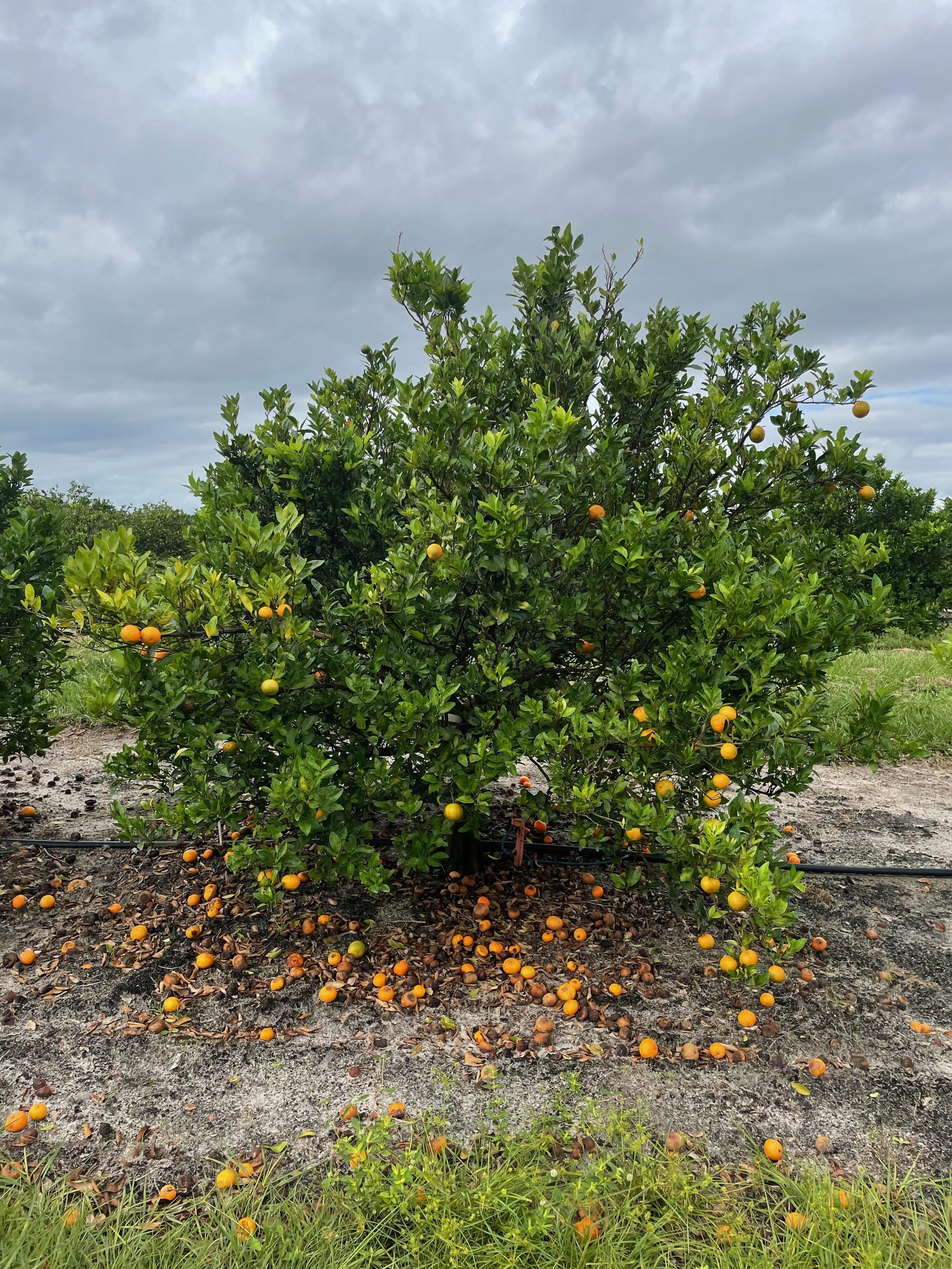fruit_on_ground: (636, 725, 662, 749), (441, 800, 466, 823), (573, 635, 598, 658), (138, 624, 163, 647), (653, 778, 677, 801), (726, 889, 750, 912), (680, 735, 705, 757), (119, 623, 142, 646), (701, 816, 726, 837), (630, 704, 653, 726), (686, 580, 709, 602), (850, 398, 873, 420), (259, 676, 282, 698), (700, 787, 723, 809), (150, 646, 174, 667), (699, 874, 723, 895), (765, 963, 787, 985), (586, 501, 608, 523), (815, 476, 838, 497), (256, 868, 279, 889), (738, 947, 760, 968), (623, 822, 645, 843), (709, 713, 730, 734), (716, 703, 738, 723), (856, 484, 878, 504), (280, 872, 301, 892), (696, 931, 717, 951), (718, 741, 739, 761), (719, 953, 739, 973), (425, 541, 445, 561), (747, 425, 767, 444), (138, 644, 158, 663), (676, 507, 695, 526), (275, 601, 294, 620), (711, 771, 731, 789), (256, 604, 275, 622), (221, 739, 240, 757), (781, 396, 799, 414), (312, 668, 330, 685), (532, 819, 549, 834), (359, 342, 372, 356)
fruit_on_tree: (571, 1217, 602, 1245), (2, 1109, 30, 1133), (233, 1215, 257, 1242), (213, 1166, 237, 1190), (783, 1209, 807, 1232), (665, 1130, 688, 1153), (830, 1188, 854, 1210), (555, 981, 578, 1003), (637, 1037, 660, 1059), (61, 1207, 83, 1229), (2, 1159, 25, 1180), (763, 1138, 784, 1161), (679, 1041, 701, 1062), (805, 1056, 827, 1077), (345, 939, 367, 959), (736, 1008, 758, 1028), (714, 1222, 734, 1243), (707, 1039, 728, 1059), (27, 1102, 48, 1122), (813, 1134, 834, 1153), (157, 1183, 178, 1202), (317, 984, 338, 1003), (429, 1134, 448, 1154), (236, 1161, 255, 1180), (162, 994, 181, 1013), (135, 890, 155, 908), (479, 1062, 499, 1080), (285, 951, 305, 969), (387, 1099, 407, 1117), (534, 1014, 554, 1032), (17, 948, 37, 966), (195, 952, 215, 970), (502, 956, 522, 974), (338, 1102, 357, 1120), (377, 983, 396, 1001), (161, 970, 181, 987), (471, 1027, 489, 1045), (561, 998, 579, 1016), (392, 958, 410, 976), (10, 893, 28, 911), (230, 954, 249, 971), (130, 923, 149, 940), (810, 935, 829, 952), (461, 968, 479, 985), (728, 1047, 746, 1064), (371, 971, 389, 988), (325, 948, 342, 966), (258, 1024, 275, 1042), (300, 916, 317, 934), (38, 892, 56, 909), (472, 902, 490, 919), (544, 914, 564, 929), (588, 822, 605, 839), (759, 990, 776, 1007), (148, 1017, 166, 1033), (287, 963, 305, 979), (183, 924, 201, 940), (268, 975, 286, 991), (334, 960, 353, 975), (534, 1031, 553, 1046), (477, 1039, 495, 1054), (206, 896, 224, 911), (529, 983, 548, 997), (538, 993, 557, 1007), (572, 925, 588, 941), (186, 892, 202, 908), (759, 934, 776, 949), (699, 964, 716, 979), (400, 992, 417, 1007), (181, 847, 198, 862), (19, 804, 37, 818), (371, 854, 387, 869), (296, 869, 311, 885), (61, 938, 77, 953), (615, 1015, 631, 1030), (412, 983, 427, 999), (523, 882, 539, 897), (799, 967, 815, 982), (607, 981, 623, 996), (579, 869, 595, 884), (521, 963, 537, 978), (340, 950, 356, 965), (460, 873, 477, 887), (475, 893, 492, 907), (458, 961, 475, 975), (513, 1037, 528, 1052), (489, 938, 504, 953), (199, 935, 215, 949), (347, 918, 363, 932), (590, 884, 606, 898), (203, 888, 219, 902), (566, 977, 582, 991), (203, 881, 220, 894), (558, 928, 573, 942), (450, 933, 465, 947), (477, 918, 492, 932), (602, 910, 616, 925), (639, 971, 655, 984), (876, 968, 892, 981), (588, 911, 602, 925), (420, 953, 434, 967), (474, 942, 488, 956), (317, 912, 331, 926), (540, 929, 555, 942), (446, 881, 461, 894), (795, 959, 809, 972), (221, 849, 234, 863), (460, 933, 474, 946), (864, 926, 878, 939), (201, 846, 214, 860), (108, 900, 122, 913), (781, 823, 796, 835), (506, 906, 521, 918), (542, 961, 555, 974), (593, 914, 606, 927), (583, 967, 597, 979), (565, 960, 579, 972), (507, 942, 521, 954), (186, 865, 200, 877), (49, 876, 63, 888), (447, 868, 460, 880), (785, 850, 799, 861), (787, 855, 801, 866), (206, 907, 220, 918), (229, 830, 242, 841), (619, 966, 632, 977), (542, 834, 555, 845), (518, 774, 530, 785), (522, 779, 532, 790)
